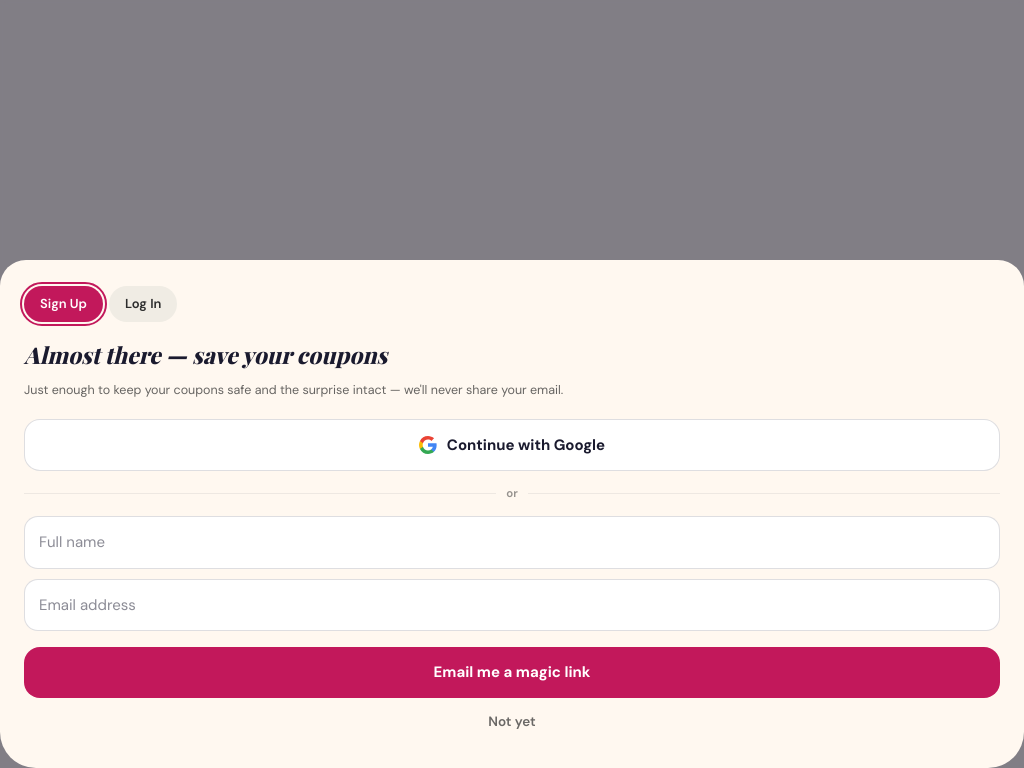
AuthGate › shows the "check your inbox" step after a successful send
Type "alex@example.com" into the field labelled "Email address" at x=512, y=605, box [24, 579, 1000, 631]
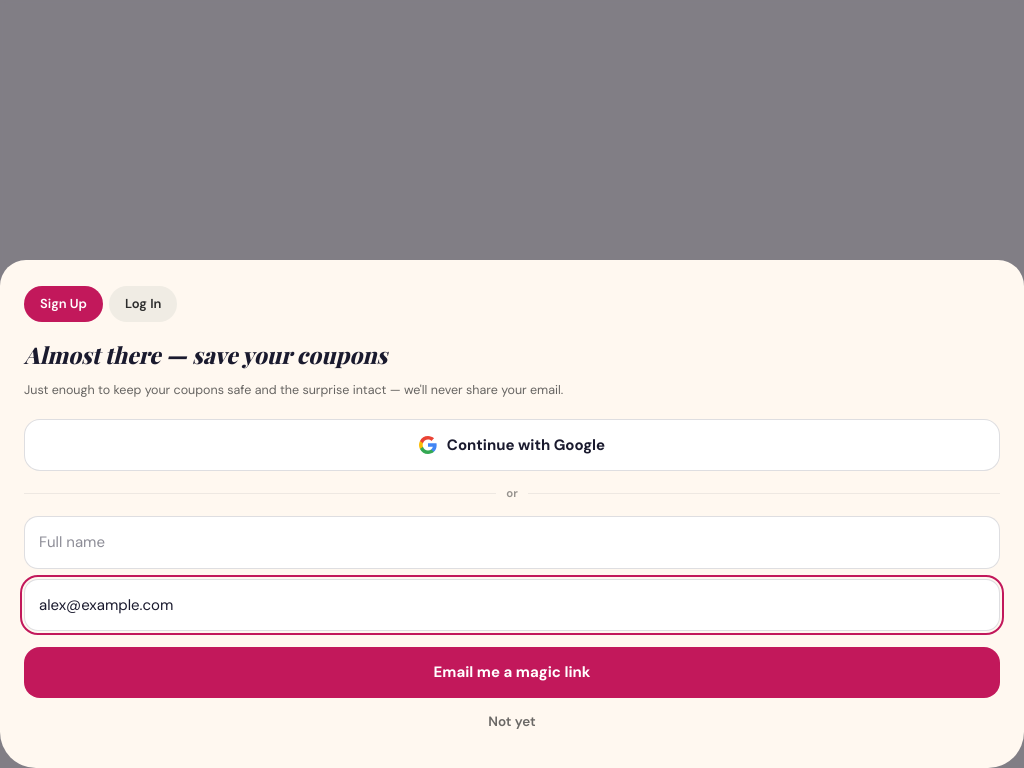
Click the button "Email me a magic link" at x=512, y=673, box [24, 647, 1000, 698]
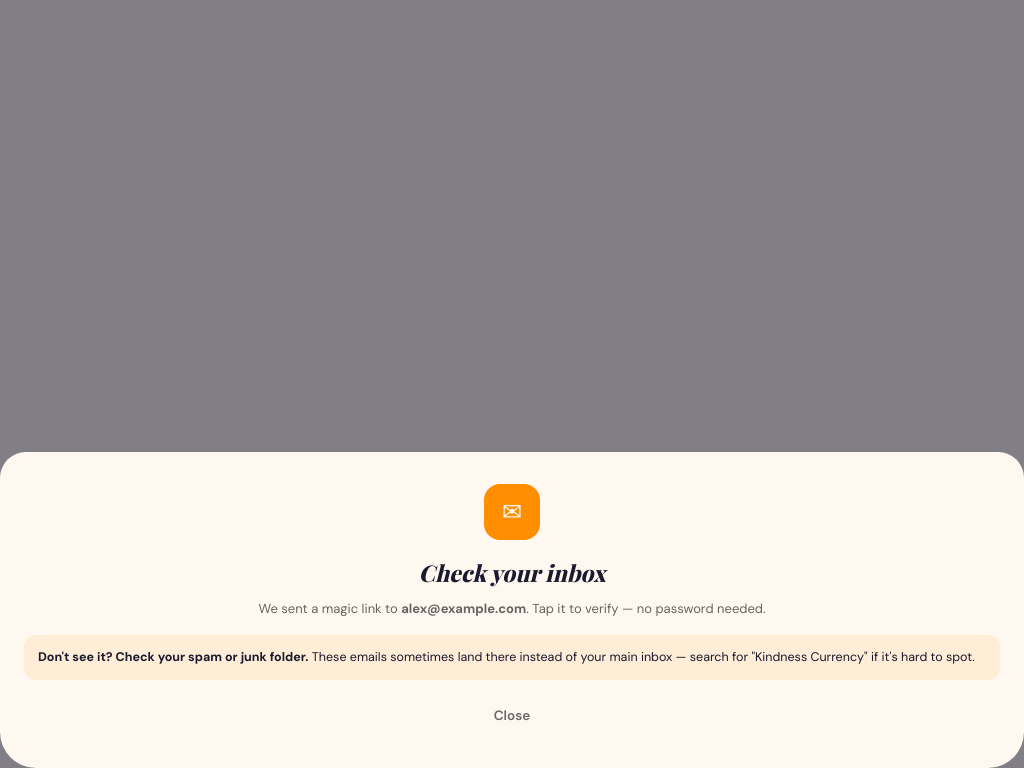
Expected: the heading "Check your inbox" is shown, [419, 557, 605, 588]
